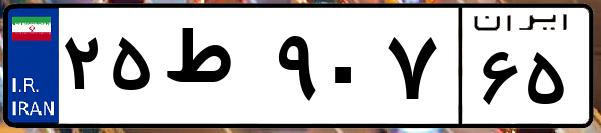0: (330, 28, 385, 110)
2: (57, 26, 110, 100)
5: (525, 38, 570, 115), (110, 28, 158, 98)
6: (475, 38, 525, 113)
7: (385, 28, 445, 110)
9: (270, 28, 330, 110)
ط: (158, 20, 270, 120)
